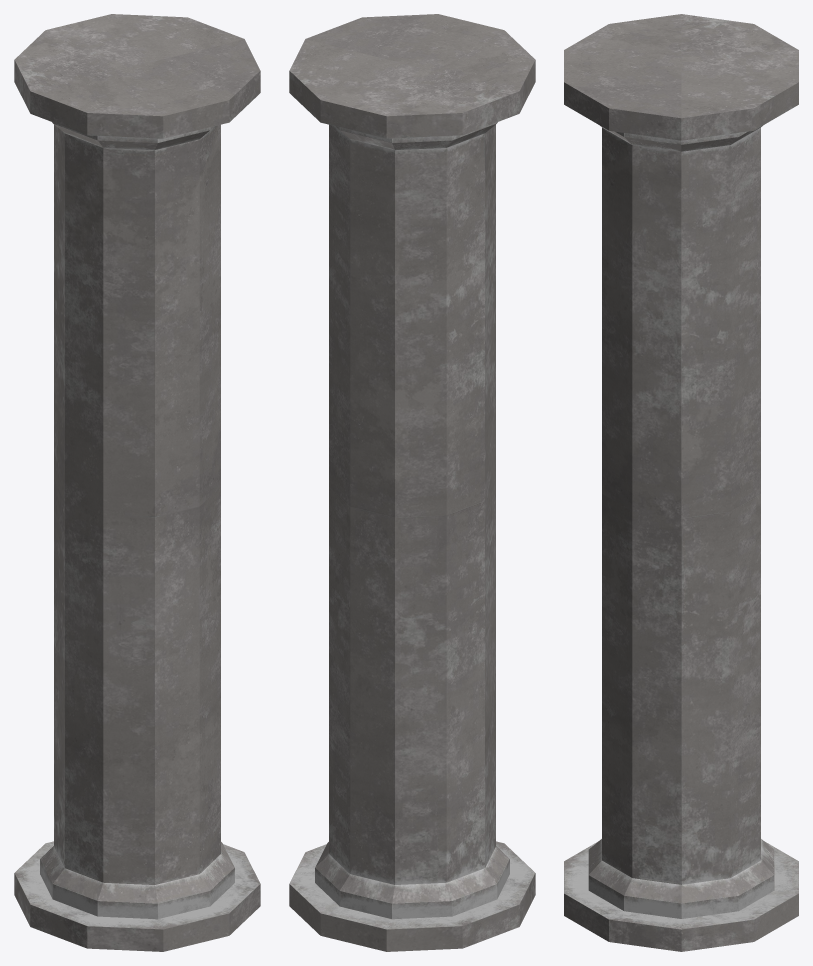
Rendered from soul_pillar.glb.
3 renders of one model, left to right at view 1: azimuth 30°, elevation 25°; view 2: azimuth 150°, elevation 25°; view 3: azimuth 270°, elevation 25°, orthographic.
Parts seen in each view (by area): view 1: pCylinder1; view 2: pCylinder1; view 3: pCylinder1.
Part boxes in pixels (<box>): pCylinder1: <box>14,14,260,951</box>; pCylinder1: <box>289,14,535,951</box>; pCylinder1: <box>564,14,798,951</box>.
Size of the model in its own units: 11.17 by 41.62 by 10.62.
1 material, 1 textured.
